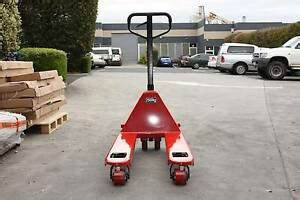Pallet Jack: (104, 11, 196, 186)
